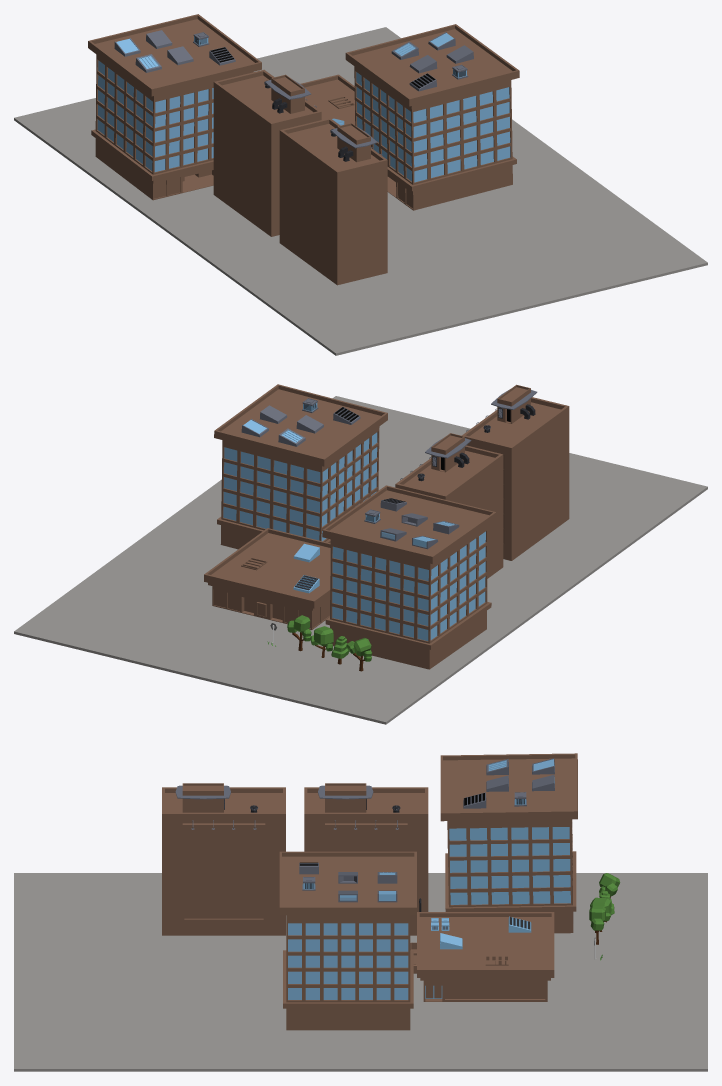
File: new street new.fbx
3 views of the same model, one above another, from view 1: azimuth 30°, elevation 25°; view 2: azimuth 150°, elevation 25°; view 3: azimuth 270°, elevation 25° (orthographic). The views are drawn at different scales.
Parts seen in each view (by area): view 1: Plane.002, office builiding, office builiding.001, tiny building with outdoor media sign space.001, tiny building with outdoor media sign space, low poly store; view 2: Plane.002, office builiding.001, office builiding, tiny building with outdoor media sign space.001, low poly store, tiny building with outdoor media sign space; view 3: Plane.002, office builiding, office builiding.001, tiny building with outdoor media sign space.001, low poly store, tiny building with outdoor media sign space.
Boxes of the visible parts, x1,y1,x2,y2 form: Plane.002: (14,27,707,355); office builiding: (345,24,519,210); office builiding.001: (88,14,261,200); tiny building with outdoor media sign space.001: (279,118,387,285); tiny building with outdoor media sign space: (213,69,321,236); low poly store: (300,74,355,125); Plane.002: (14,396,707,724); office builiding.001: (322,485,496,669); office builiding: (214,384,387,549); tiny building with outdoor media sign space.001: (462,384,569,560); low poly store: (204,528,330,629); tiny building with outdoor media sign space: (395,433,503,578); Plane.002: (14,873,707,1071); office builiding: (279,851,416,1030); office builiding.001: (440,753,577,933); tiny building with outdoor media sign space.001: (162,783,285,935); low poly store: (410,912,554,1001); tiny building with outdoor media sign space: (304,783,428,935).
Bounding box in the file's own units: 3024 × 1041 × 4532.
